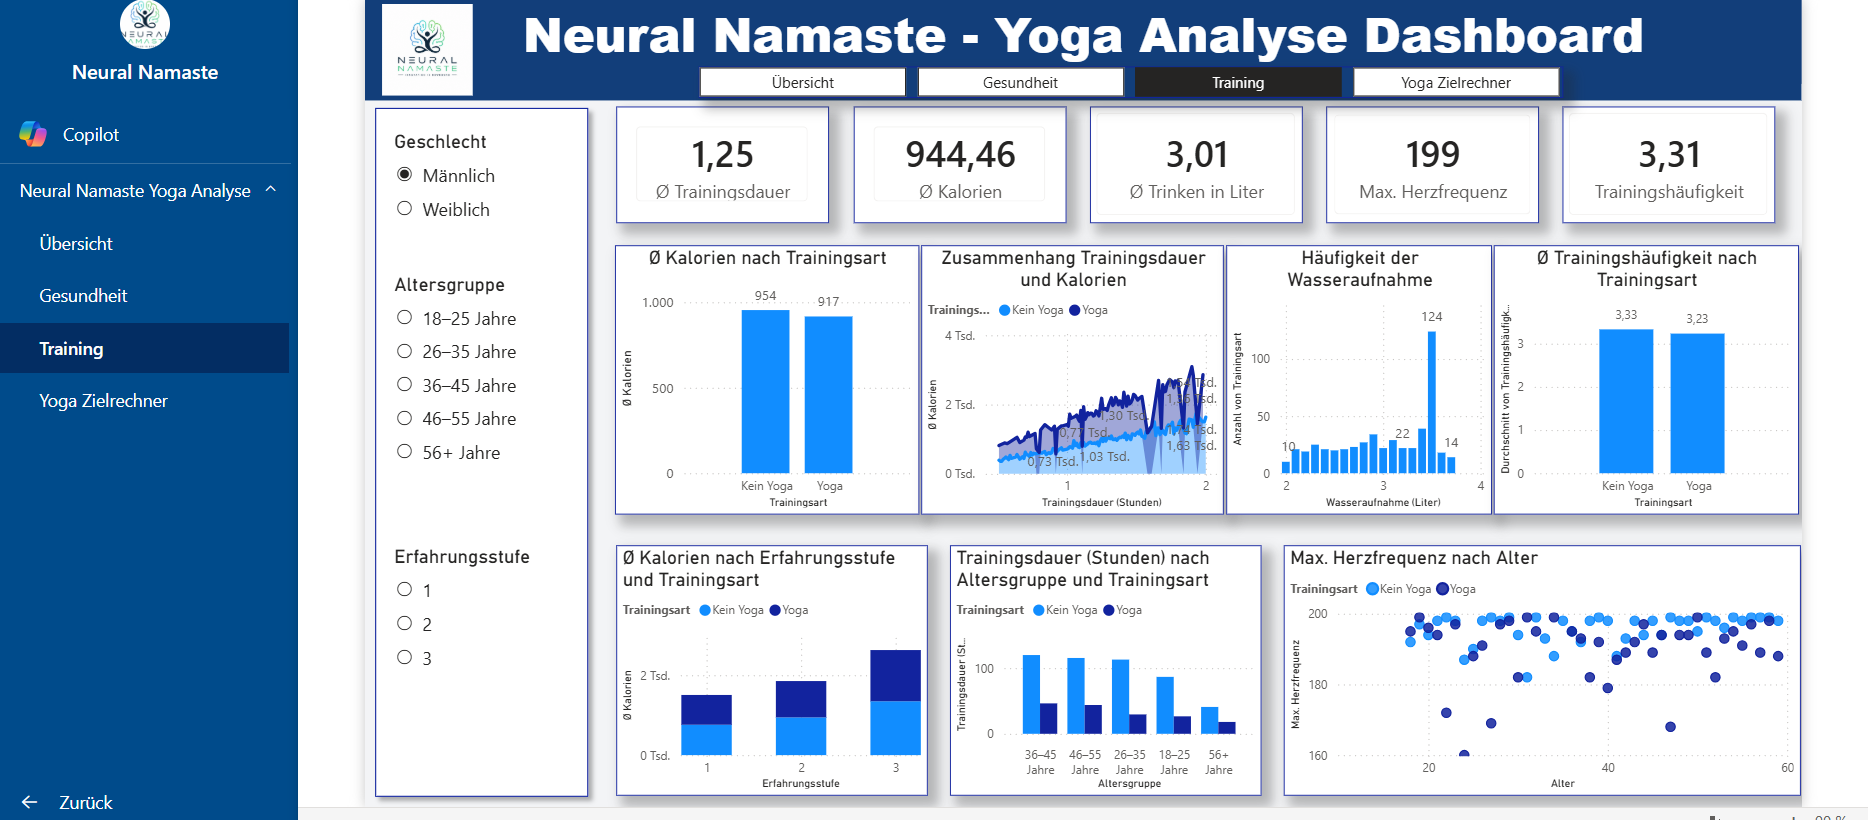

Layout of this report page (visuals, bound fields, positions):
{"tool":"powerbi","page":{"name":"Training","canvas":[1280,720],"ordinal":3},"visuals":[{"type":"shape","title":" Neural Namaste - Yoga Analyse Dashboard ","box":[0,0,1280.4,90.4],"z":0},{"type":"shape","box":[0,88,208,632],"z":1000},{"type":"cardVisual","fields":{"Data":["Avg(F_Training.Trainingsdauer (Stunden))"]},"box":[224.3,95.7,189.3,103.9],"z":2000},{"type":"cardVisual","fields":{"Data":["Avg(F_Training.Wasseraufnahme (Liter))"]},"box":[645.7,95.7,189.3,103.9],"z":3000},{"type":"cardVisual","fields":{"Data":["Max(F_Training.Max. Herzfrequenz)"]},"box":[856.3,95.7,189.3,103.9],"z":4000},{"type":"cardVisual","fields":{"Data":["Avg(F_Training.Trainingshäufigkeit (Tage/Woche))"]},"box":[1067,95.7,189.3,103.9],"z":5000},{"type":"clusteredColumnChart","title":"Ø Kalorien nach Trainingsart","fields":{"Y":["M_Measures.Ø Kalorien"],"Category":["D_Trainingsart.Trainingsart"]},"box":[222.5,219.6,270.9,239.9],"z":6000},{"type":"image","box":[0,4.1,111.1,81.3],"z":7000},{"type":"stackedAreaChart","title":"Zusammenhang Trainingsdauer und Kalorien","fields":{"Category":["F_Training.Trainingsdauer (Stunden)"],"Y":["M_Measures.Ø Kalorien"],"Series":["F_Training.Trainingsart"]},"box":[495.4,219.6,269.9,239.9],"z":8000},{"type":"clusteredColumnChart","title":"Häufigkeit der Wasseraufnahme","fields":{"Category":["F_Training.Wasseraufnahme (Liter)"],"Y":["CountNonNull(F_Training.Trainingsart)"]},"box":[767.2,219.6,237,239.9],"z":9000},{"type":"clusteredColumnChart","title":"Ø Trainingshäufigkeit nach Trainingsart","fields":{"Y":["Avg(F_Training.Trainingshäufigkeit (Tage/Woche))"],"Category":["D_Trainingsart.Trainingsart"]},"box":[1006.2,219.6,271.9,239.9],"z":10000},{"type":"columnChart","fields":{"Category":["D_Erfahrungsstufe.Erfahrungsstufe"],"Y":["M_Measures.Ø Kalorien"],"Series":["D_Trainingsart.Trainingsart"]},"box":[224.3,486.7,277.8,223.3],"z":11000},{"type":"clusteredColumnChart","fields":{"Category":["D_Alter.Altersgruppe"],"Series":["D_Trainingsart.Trainingsart"],"Y":["Sum(F_Training.Trainingsdauer (Stunden))"]},"box":[521.7,486.7,277.8,223.3],"z":12000},{"type":"scatterChart","title":"Max. Herzfrequenz nach Alter","fields":{"X":["D_Alter.Alter"],"Series":["D_Trainingsart.Trainingsart"],"Y":["Max(F_Training.Max. Herzfrequenz)"]},"box":[819,486.7,461,223.3],"z":13000},{"type":"cardVisual","fields":{"Data":["M_Measures.Ø Kalorien"]},"box":[435,95.7,189.3,103.9],"z":14000},{"type":"listSlicer","fields":{"Values":["D_Geschlecht.Geschlecht"]},"box":[21.6,117.3,148.2,111.1],"z":15000},{"type":"listSlicer","fields":{"Values":["D_Alter.Altersgruppe"]},"box":[21.6,243.9,159.5,202.7],"z":16000},{"type":"listSlicer","fields":{"Values":["F_Training.Erfahrungsstufe"]},"box":[21.6,486.7,164.6,156.4],"z":17000},{"type":"pageNavigator","box":[297,60,770.1,28.1],"z":18000}]}

Visuals, with their boxes on the page's 1280x720 design canvas (x1, y1, x2, y2). These are canvas units, not pixel positions in the 1868x820 screenshot, which may show the page scaled, cropped or inside an application window:
" Neural Namaste - Yoga Analyse Dashboard " shape: Rect(0, 0, 1280, 90)
shape: Rect(0, 88, 208, 720)
cardVisual - Avg(F_Training.Trainingsdauer (Stunden)): Rect(224, 96, 414, 200)
cardVisual - Avg(F_Training.Wasseraufnahme (Liter)): Rect(646, 96, 835, 200)
cardVisual - Max(F_Training.Max. Herzfrequenz): Rect(856, 96, 1046, 200)
cardVisual - Avg(F_Training.Trainingshäufigkeit (Tage/Woche)): Rect(1067, 96, 1256, 200)
"Ø Kalorien nach Trainingsart" clusteredColumnChart: Rect(222, 220, 493, 460)
image: Rect(0, 4, 111, 85)
"Zusammenhang Trainingsdauer und Kalorien" stackedAreaChart: Rect(495, 220, 765, 460)
"Häufigkeit der Wasseraufnahme" clusteredColumnChart: Rect(767, 220, 1004, 460)
"Ø Trainingshäufigkeit nach Trainingsart" clusteredColumnChart: Rect(1006, 220, 1278, 460)
columnChart - D_Erfahrungsstufe.Erfahrungsstufe x M_Measures.Ø Kalorien: Rect(224, 487, 502, 710)
clusteredColumnChart - D_Alter.Altersgruppe x D_Trainingsart.Trainingsart: Rect(522, 487, 800, 710)
"Max. Herzfrequenz nach Alter" scatterChart: Rect(819, 487, 1280, 710)
cardVisual - M_Measures.Ø Kalorien: Rect(435, 96, 624, 200)
listSlicer - D_Geschlecht.Geschlecht: Rect(22, 117, 170, 228)
listSlicer - D_Alter.Altersgruppe: Rect(22, 244, 181, 447)
listSlicer - F_Training.Erfahrungsstufe: Rect(22, 487, 186, 643)
pageNavigator: Rect(297, 60, 1067, 88)
